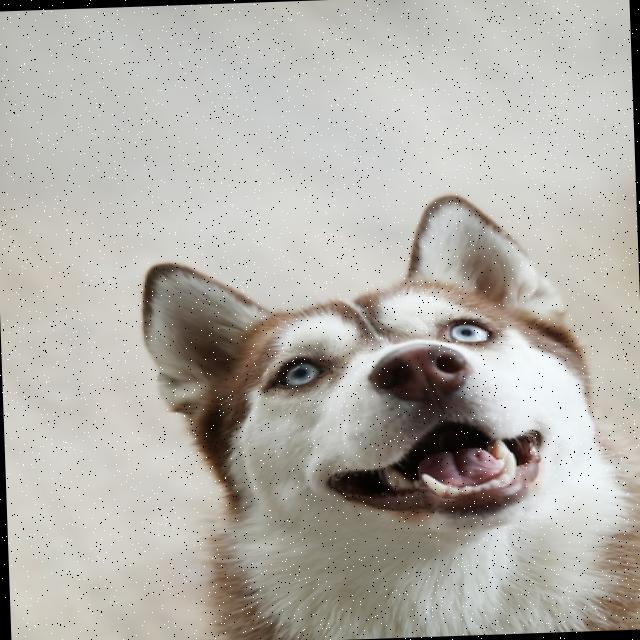Dog: (137, 188, 640, 640)
